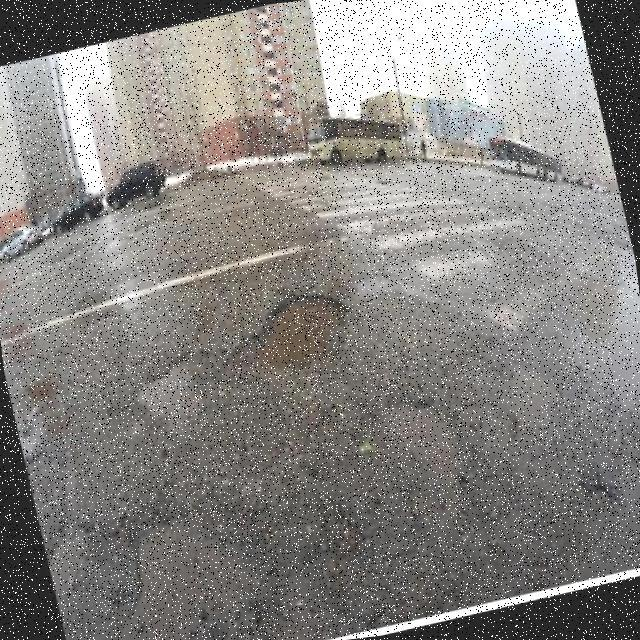Pothole: (256, 295, 348, 383), (385, 408, 466, 474)
